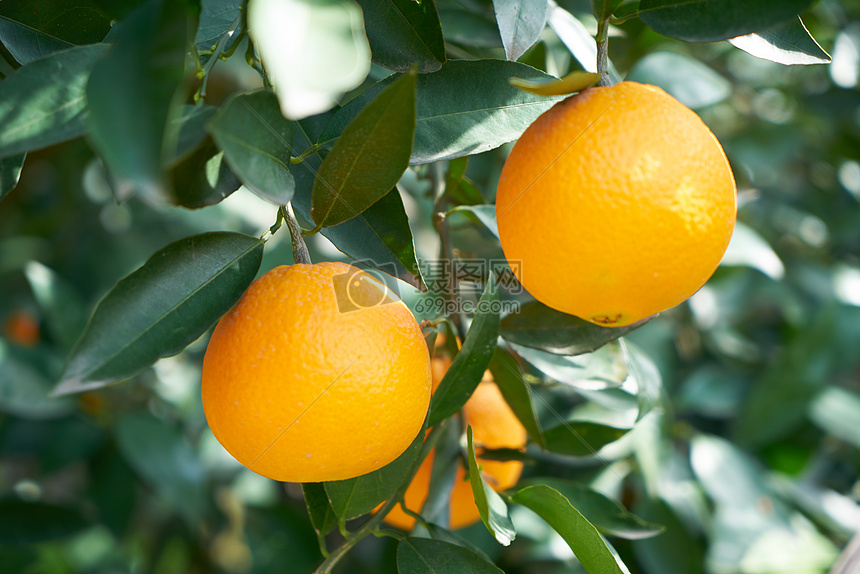orange: (492, 80, 745, 332), (200, 261, 432, 481)
